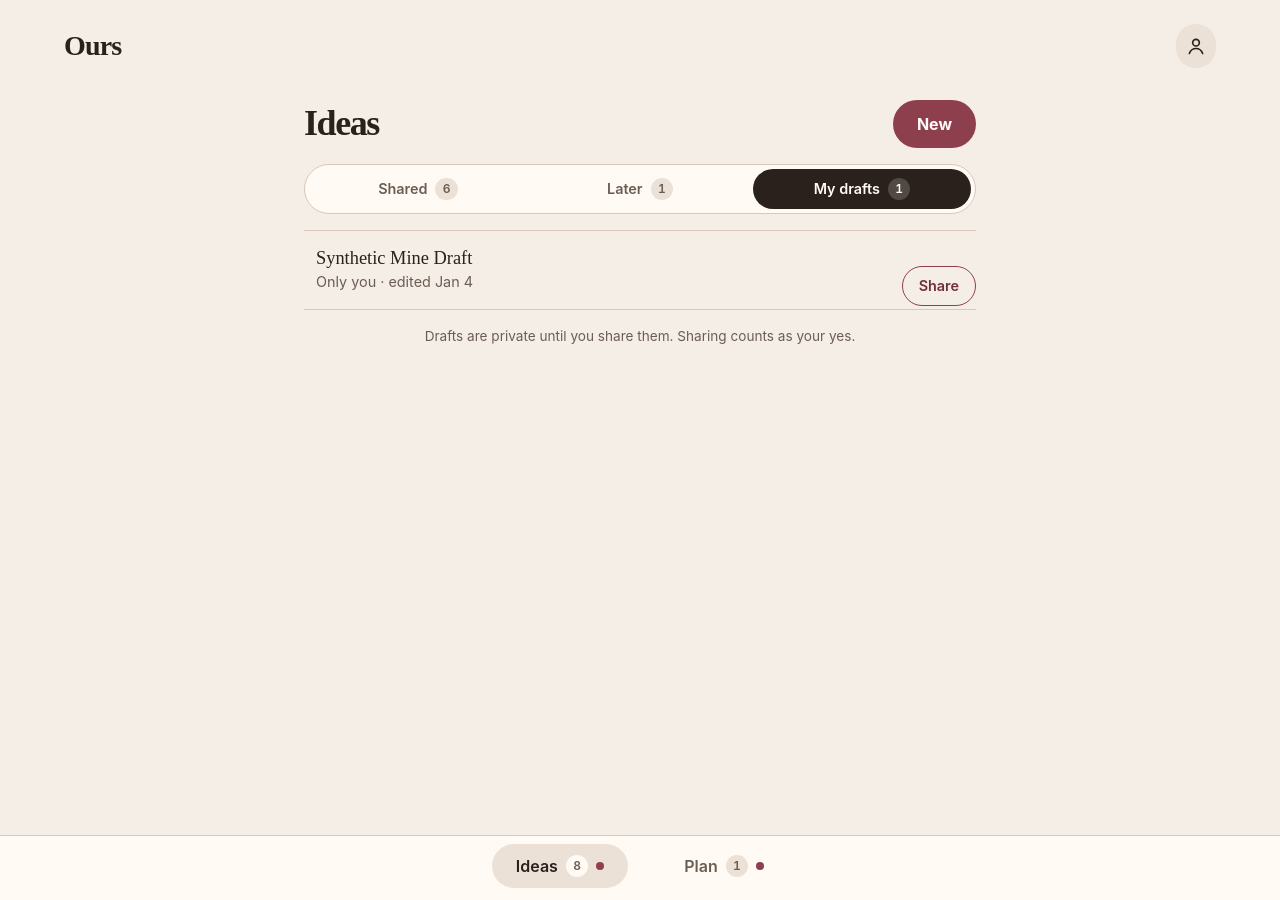
Test: Ideas tab › Drafts lists my drafts with a Share button that shares in place
Expected: the link "Synthetic Mine Draft Only you · edited Jan 4" is shown, [316,248,473,290]
Click the button with aria-label "Share Synthetic Mine Draft with Synthetic Partner B" at point(939, 286), box [902,266,976,306]
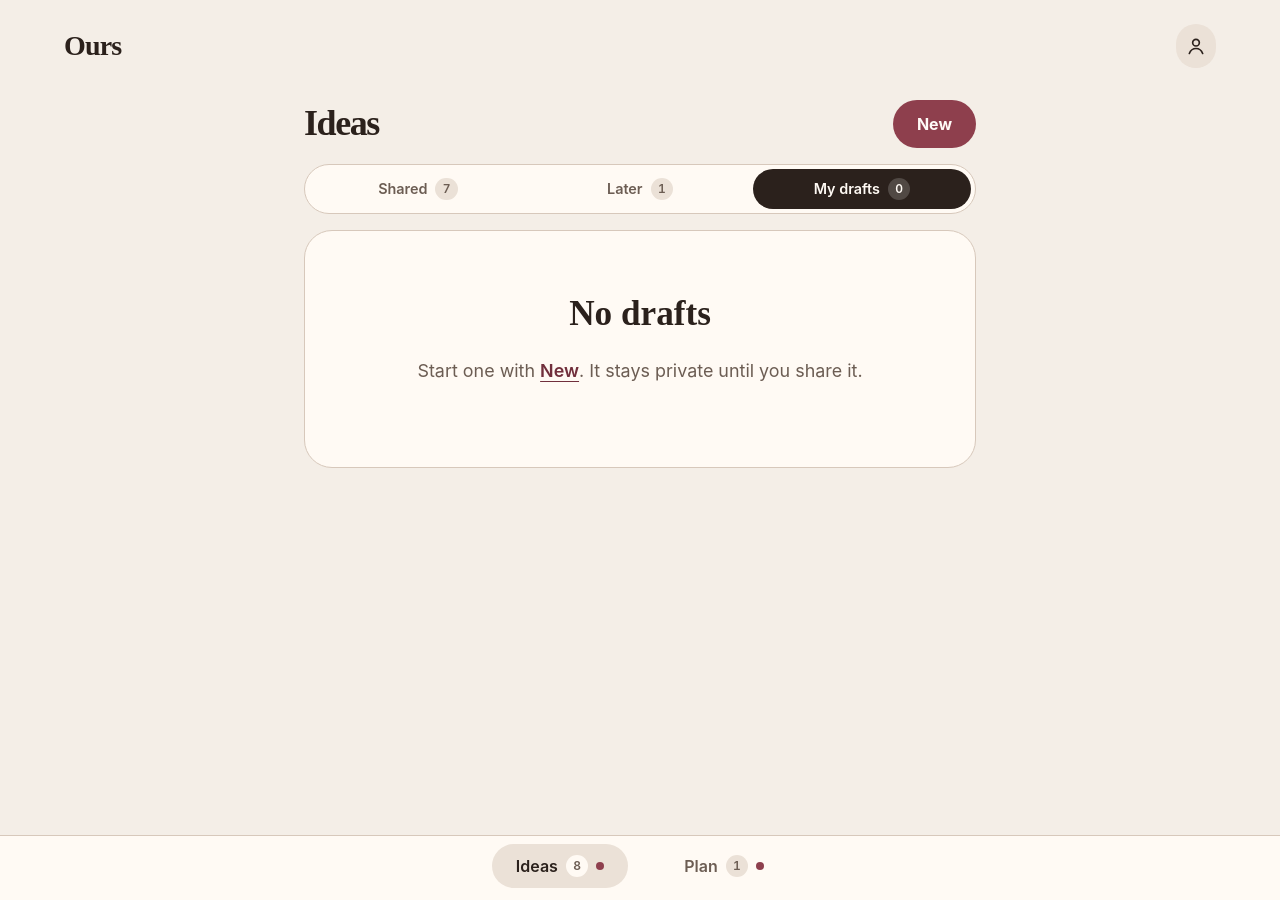
Expected: the heading "No drafts" is shown, [569,294,711,333]
